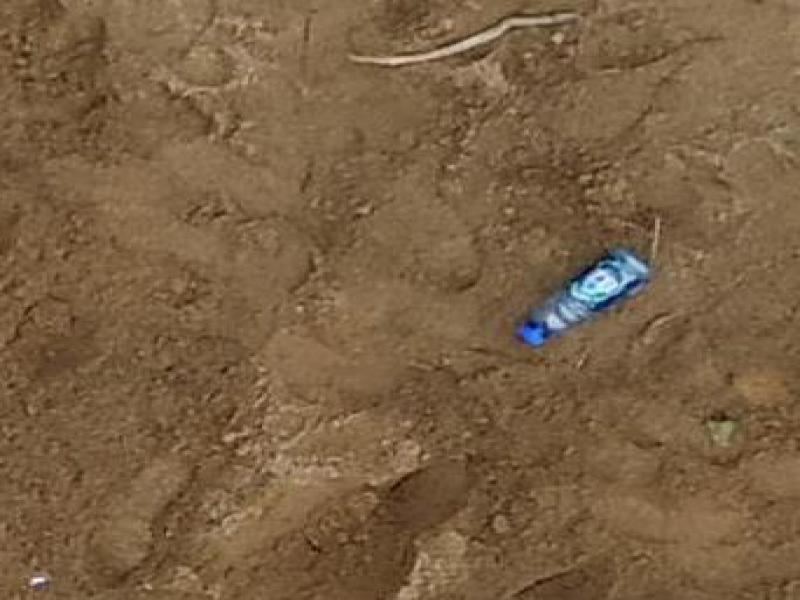bottle: (509, 241, 664, 356)
